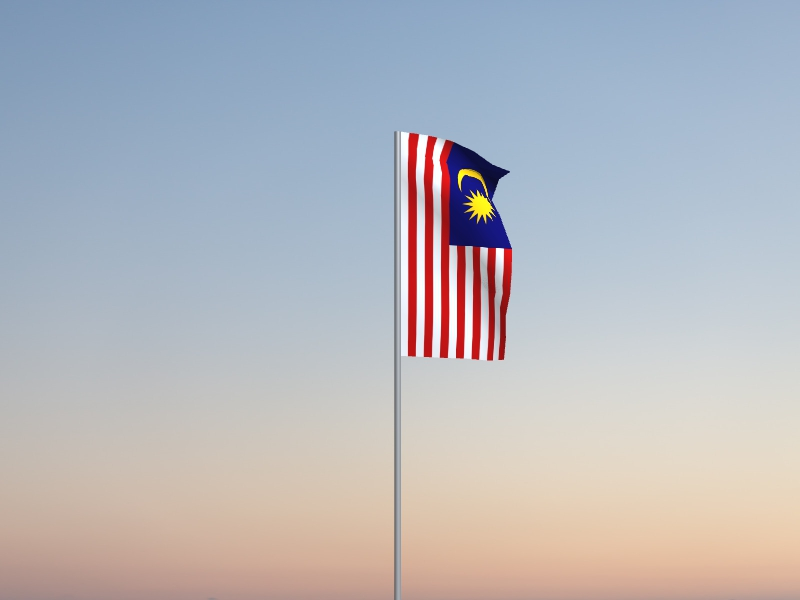my: (402, 132, 515, 361)
